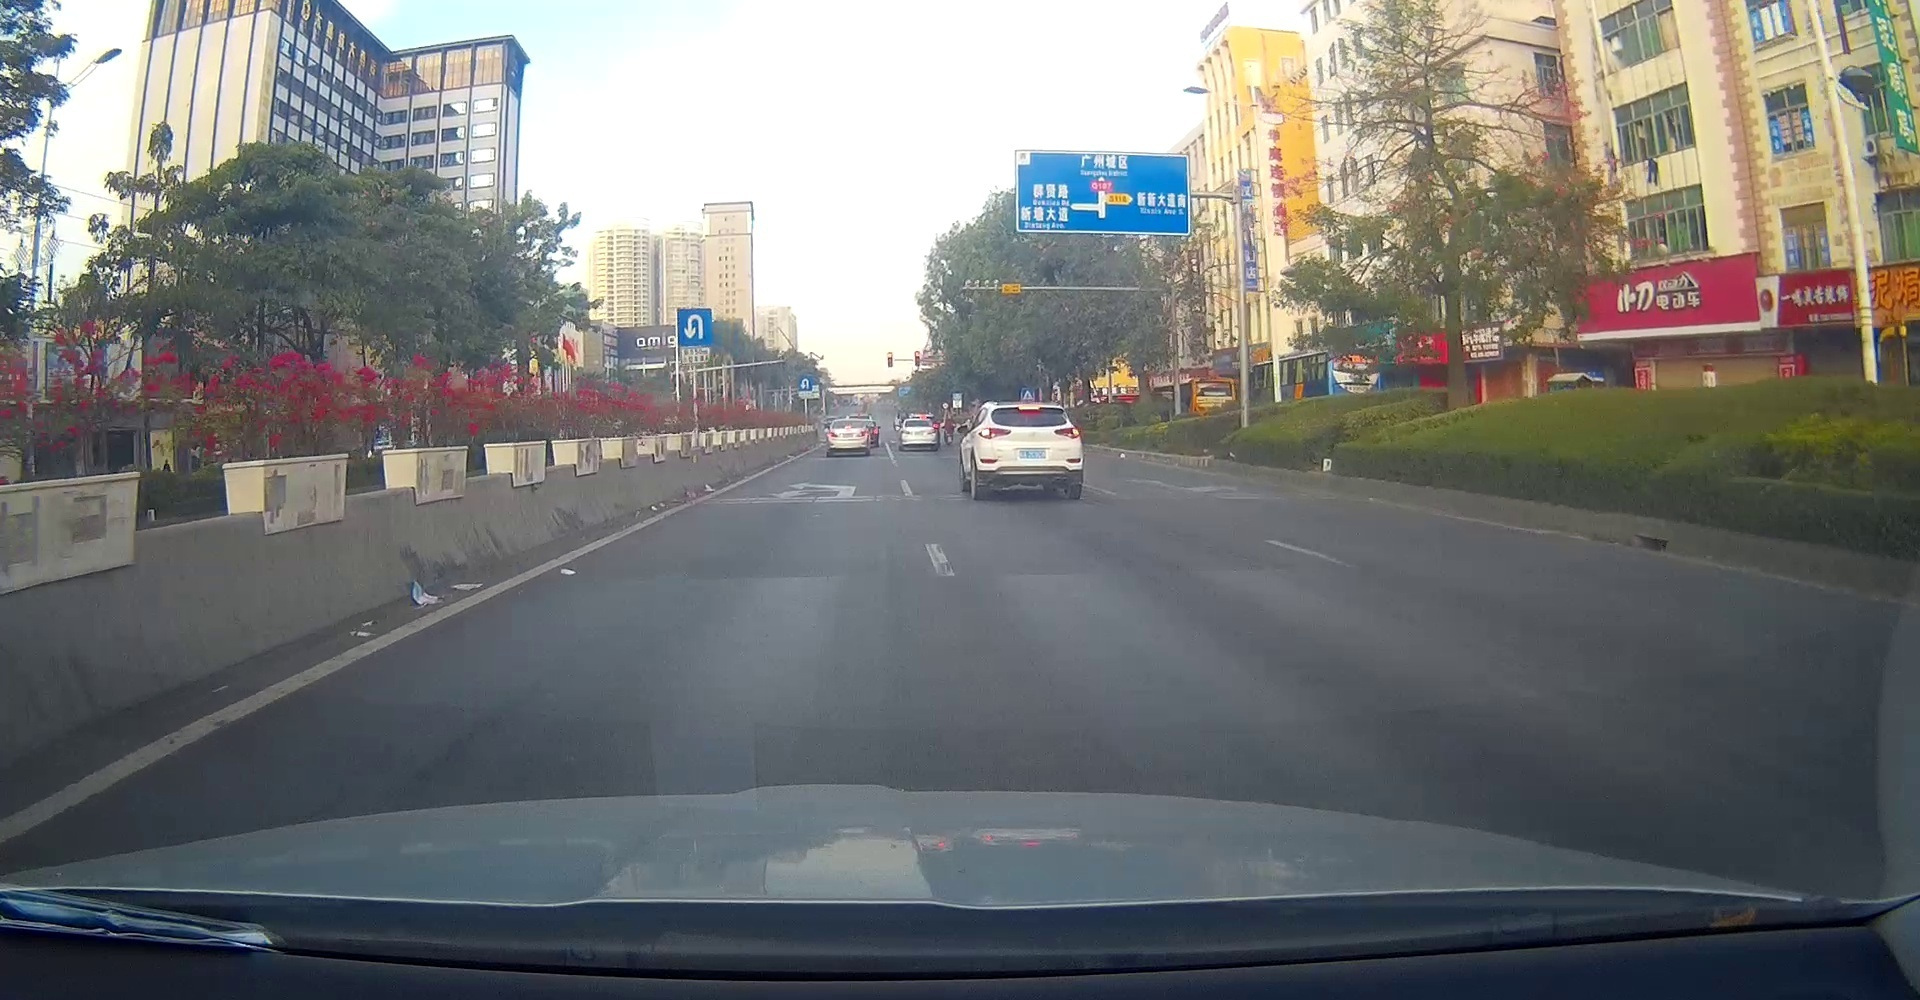L_light: (978, 426, 1012, 440), (830, 431, 838, 438), (902, 430, 910, 435)
R_light: (1054, 426, 1079, 439), (927, 428, 937, 434), (856, 431, 867, 437)
T_light: (1018, 406, 1040, 411), (916, 421, 922, 423)
day-brake: (974, 400, 1084, 499), (827, 419, 870, 456)
day-no: (900, 418, 938, 451), (844, 426, 852, 429)
